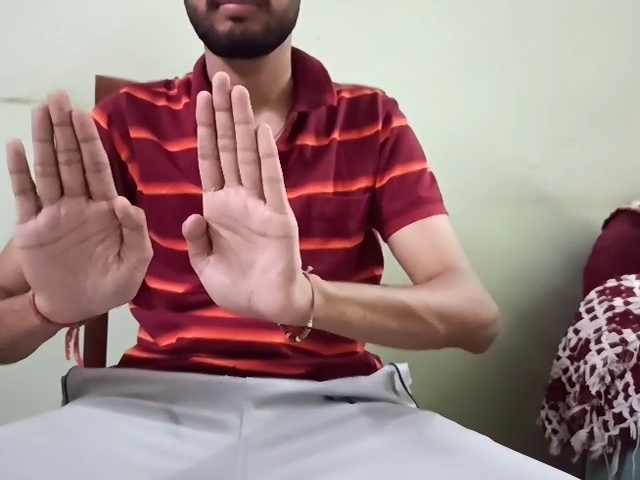B: (181, 72, 300, 325)
